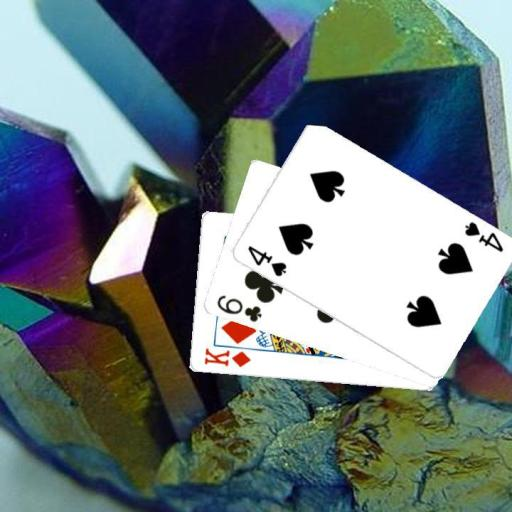4S: (461, 218, 504, 254), (244, 243, 288, 278)
6C: (213, 292, 263, 324)
KD: (201, 345, 252, 369)
